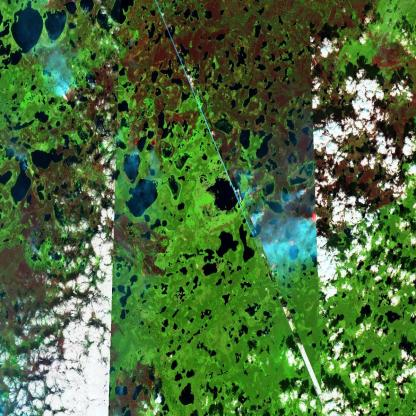fire: (249, 180, 320, 280), (119, 107, 166, 167), (54, 73, 88, 114)
